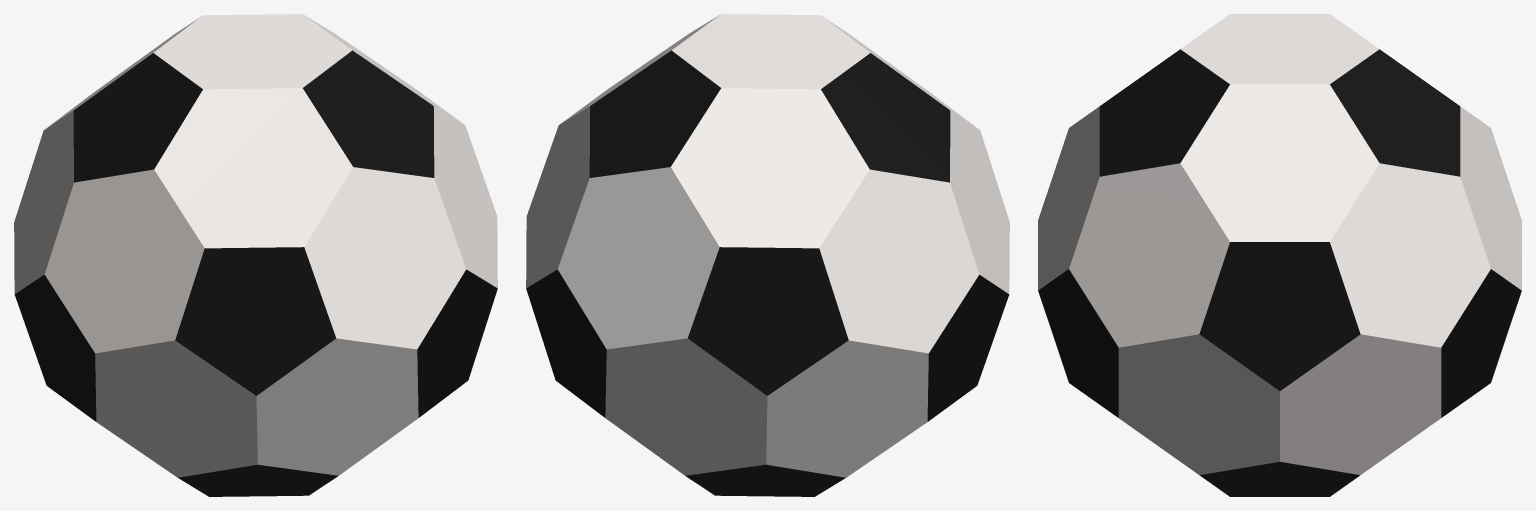
The model's file is SM_Toy_01.fbx.
3 views of the same model, side by side, from view 1: azimuth 30°, elevation 25°; view 2: azimuth 150°, elevation 25°; view 3: azimuth 270°, elevation 25° (orthographic).
Visible parts, largest first — view 1: SM_Toy_01; view 2: SM_Toy_01; view 3: SM_Toy_01.
Part boxes in pixels (x1,y1,x2,y2): SM_Toy_01: [14, 14, 497, 496]; SM_Toy_01: [526, 14, 1009, 496]; SM_Toy_01: [1038, 14, 1521, 496].
Bounding box in the file's own units: 23.81 × 22.15 × 23.57.
Materials: 1 (1 with a texture image).
